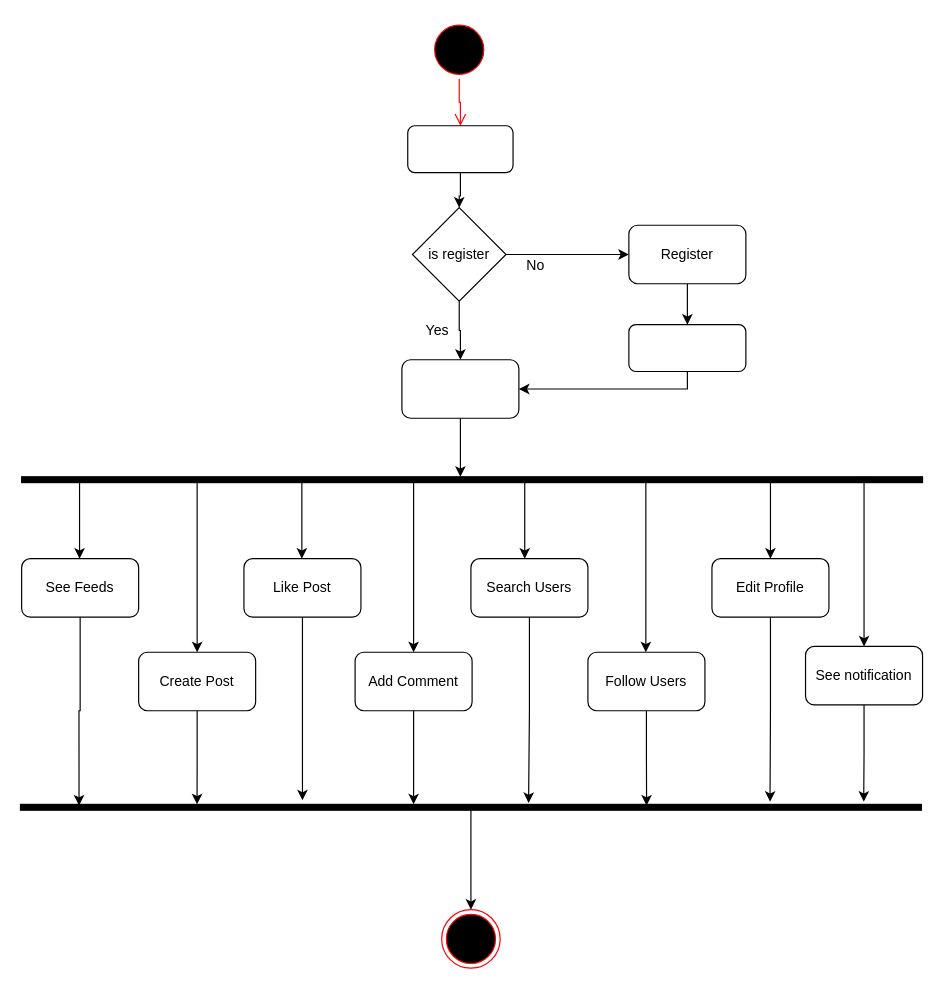
The diagram is 943 pixels wide and 989 high, and some of its shapes have lost their labels. The box of each missing label's shape, as (x1, y1, x2, y2) in pixels:
Create Profile: (628, 324, 746, 371)
Home Page: (401, 359, 519, 418)
Login: (407, 125, 513, 173)
